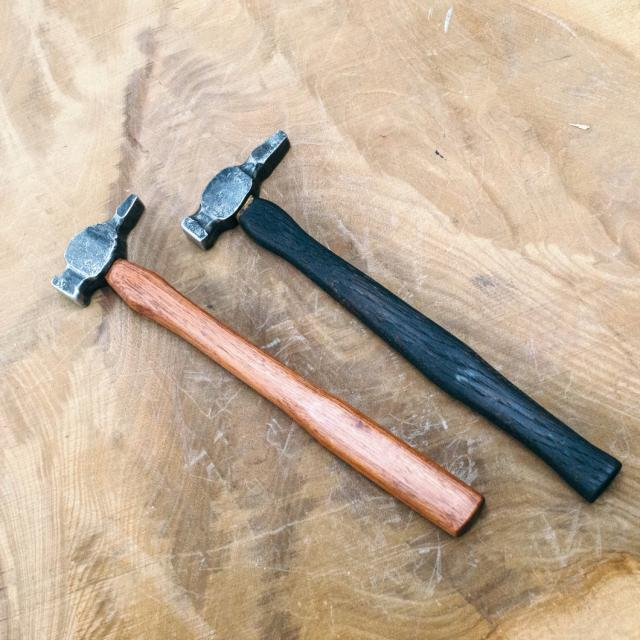hammer: (175, 123, 630, 509), (49, 188, 489, 546)
